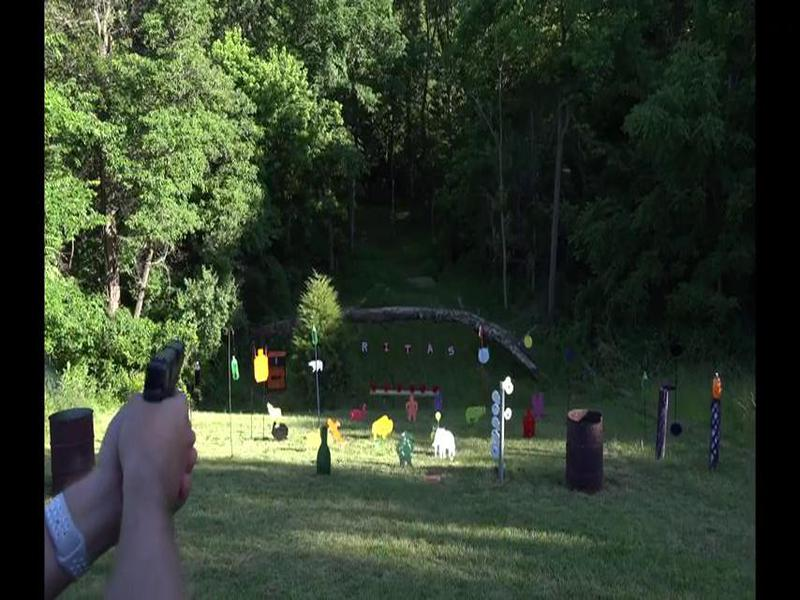Pistola: (131, 332, 202, 415)
